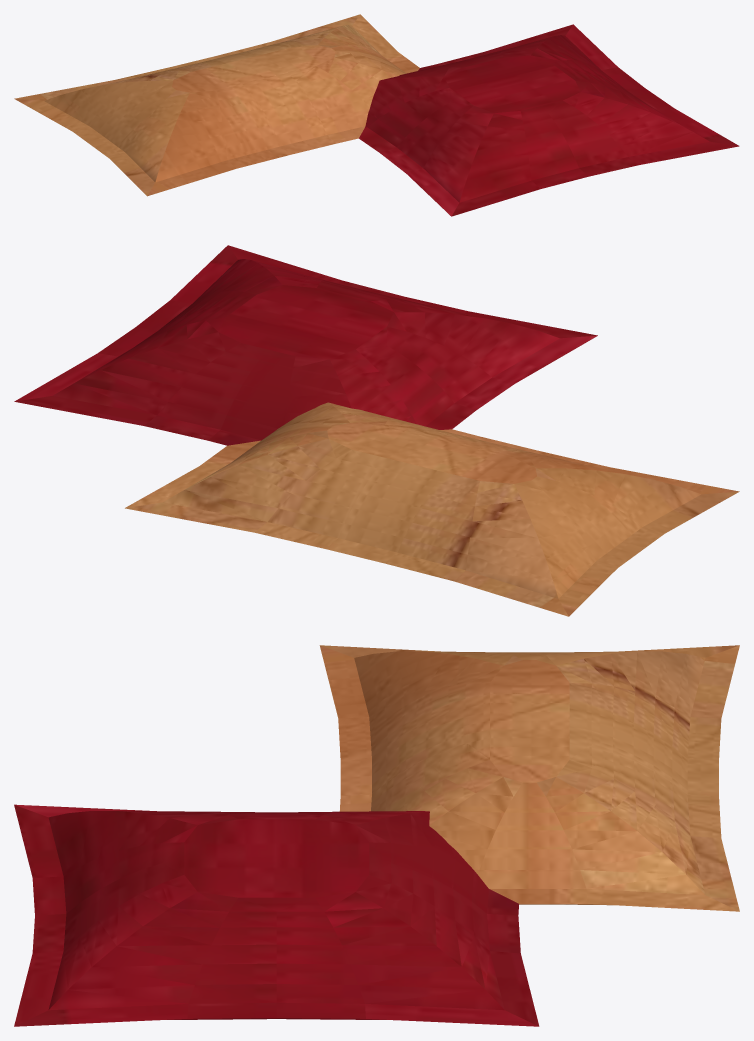
Rendered from pillow.dae.
3 views of the same model, one above another, from view 1: azimuth 30°, elevation 25°; view 2: azimuth 150°, elevation 25°; view 3: azimuth 270°, elevation 25° (orthographic). The views are drawn at different scales.
Visible parts, largest first — view 1: _pillow_50x50_C, _pillow_60x40_C; view 2: _pillow_60x40_C, _pillow_50x50_C; view 3: _pillow_50x50_C, _pillow_60x40_C.
Part boxes in pixels (left/top/right/bottom): _pillow_50x50_C: left=359, top=24, right=739, bottom=216; _pillow_60x40_C: left=14, top=14, right=419, bottom=196; _pillow_60x40_C: left=125, top=402, right=739, bottom=616; _pillow_50x50_C: left=14, top=245, right=597, bottom=445; _pillow_50x50_C: left=14, top=804, right=539, bottom=1026; _pillow_60x40_C: left=319, top=645, right=739, bottom=911.
Size of the model in its own units: 33.82 by 27.2 by 4.72.
2 materials, 2 textured.
